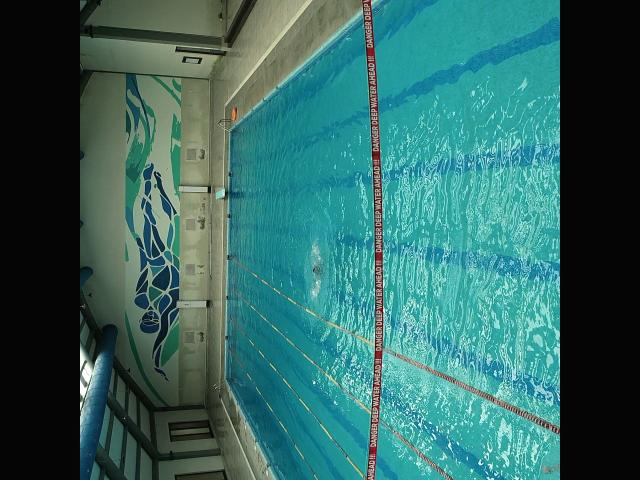drowning: (308, 240, 324, 296)
swimming: (536, 463, 560, 480)
